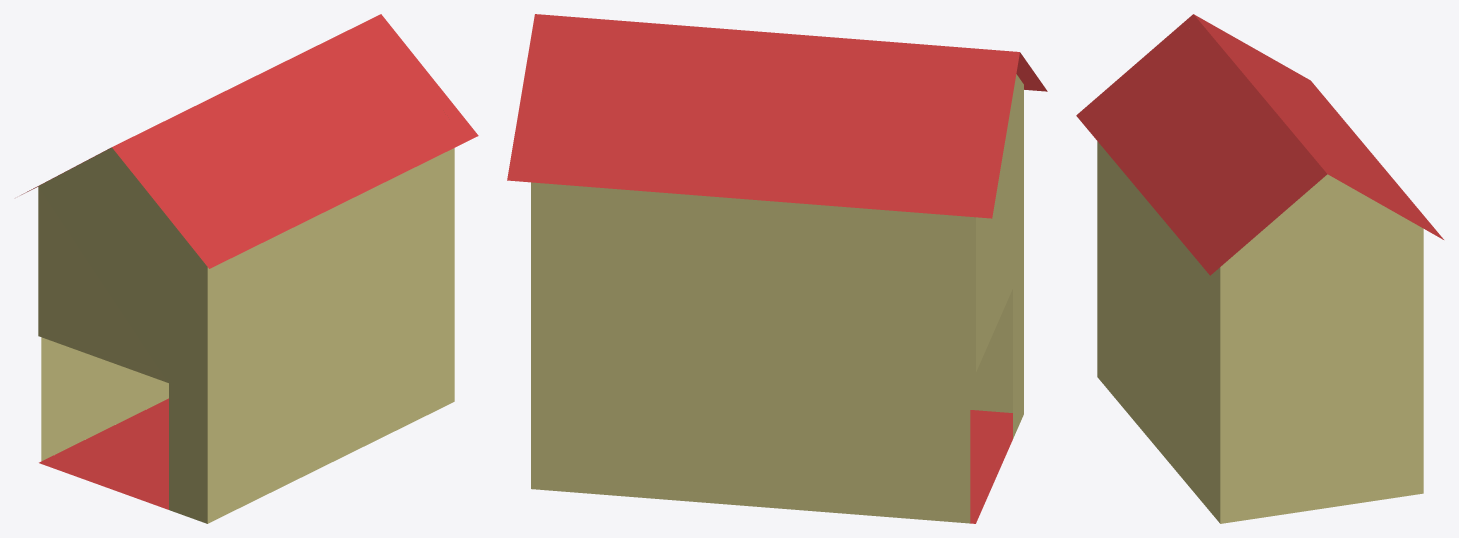
3 views of the same model, side by side, from view 1: azimuth 30°, elevation 25°; view 2: azimuth 150°, elevation 25°; view 3: azimuth 270°, elevation 25° (orthographic). The views are drawn at different scales.
Visible parts, largest first — view 1: group_5, group_3, group_6, group_4; view 2: group_5, group_3, group_4, group_6; view 3: group_5, group_3, group_4.
Boxes of the visible parts, <box> form: group_5: <box>38,147,454,523</box>; group_3: <box>20,19,477,268</box>; group_6: <box>39,398,168,509</box>; group_4: <box>58,14,478,203</box>; group_5: <box>531,74,1023,523</box>; group_3: <box>511,14,1019,218</box>; group_4: <box>507,15,1047,218</box>; group_6: <box>970,410,1012,523</box>; group_5: <box>1097,141,1423,523</box>; group_3: <box>1076,14,1422,274</box>; group_4: <box>1140,14,1443,275</box>.
Size of the model in its own units: 20.84 by 16.63 by 16.97.
